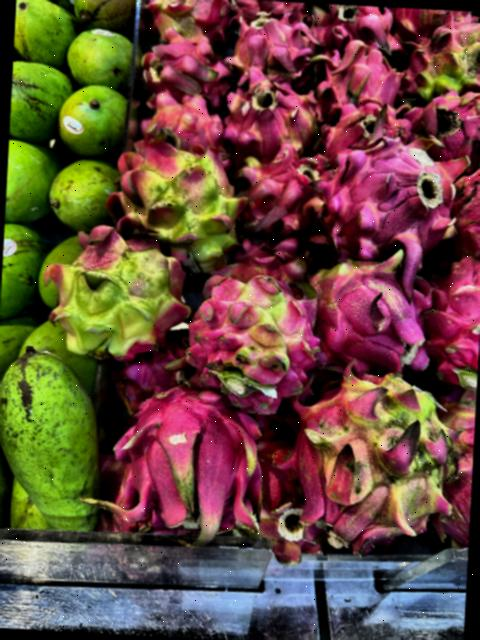buah-naga-belum-matang: (286, 353, 460, 562), (44, 224, 204, 372), (101, 130, 248, 273), (186, 268, 330, 412), (305, 252, 434, 371), (408, 8, 480, 94), (146, 0, 230, 43)
buah-naga-matang: (114, 375, 278, 547), (316, 139, 444, 267), (216, 76, 316, 156), (239, 146, 325, 238), (311, 38, 405, 114), (228, 18, 318, 96), (422, 251, 480, 361), (146, 26, 230, 100), (395, 91, 480, 160), (141, 90, 221, 154), (309, 3, 404, 56), (314, 104, 416, 148), (442, 164, 480, 256), (393, 8, 467, 40)
